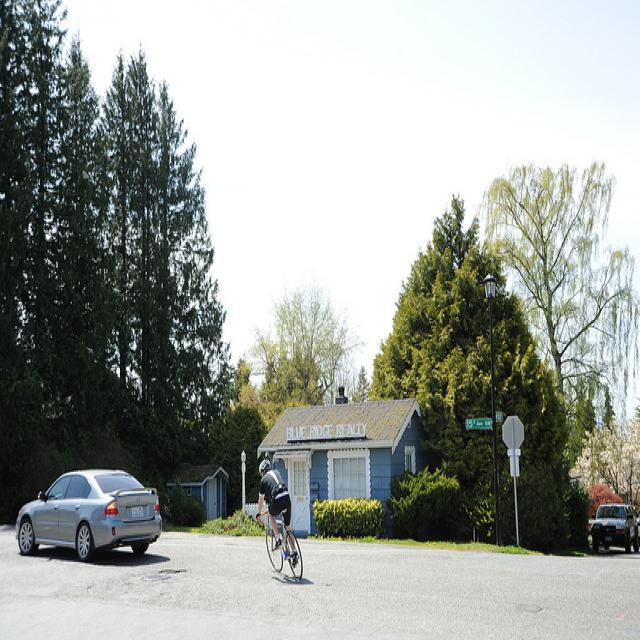Vehicle: (15, 468, 162, 563), (590, 504, 640, 554), (636, 516, 640, 525)
